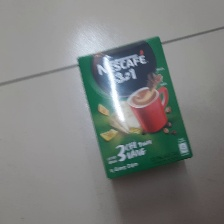Nes Rang: (77, 34, 194, 182)
